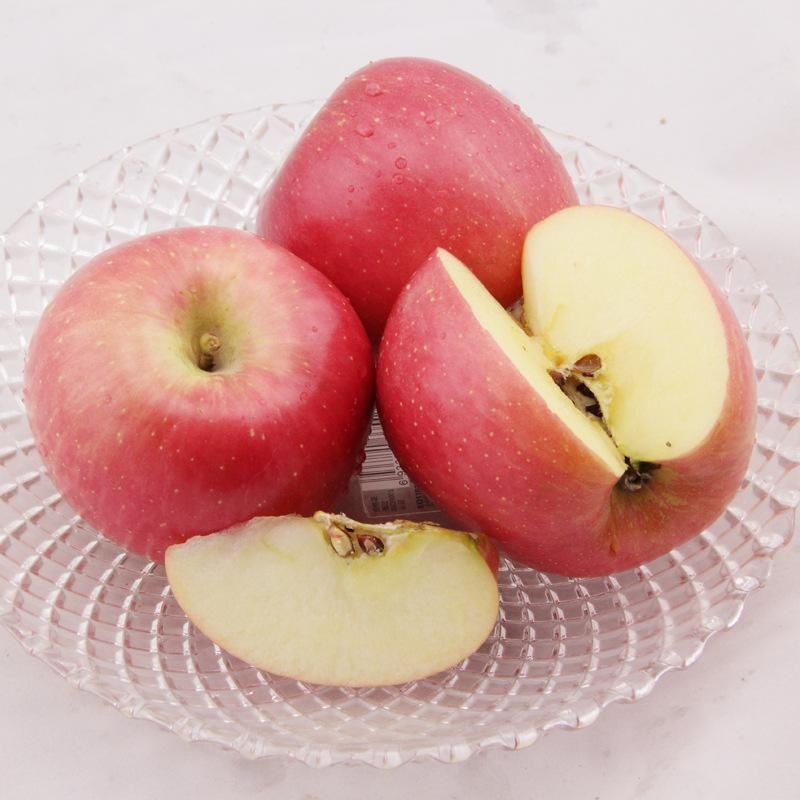apple: (375, 209, 751, 574), (22, 221, 366, 561), (265, 57, 583, 326)
